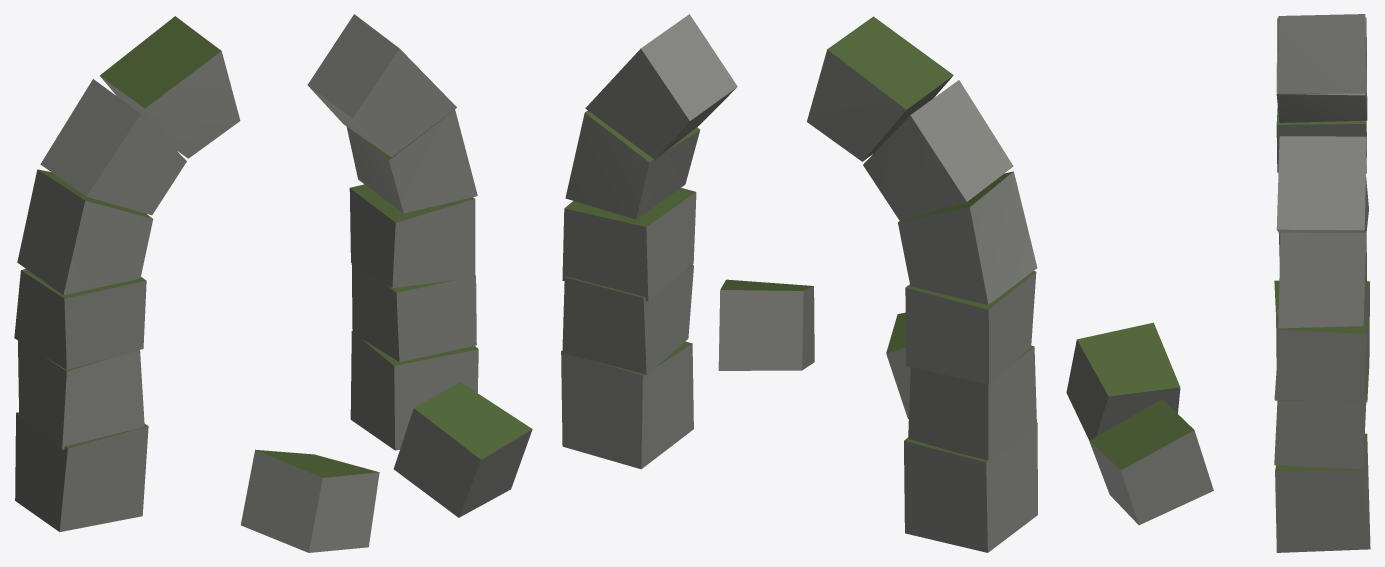
File: ArchBroken.fbx
3 views of the same model, side by side, from view 1: azimuth 30°, elevation 25°; view 2: azimuth 150°, elevation 25°; view 3: azimuth 270°, elevation 25° (orthographic). The views are drawn at different scales.
Parts seen in each view (by area): view 1: ArchBroken; view 2: ArchBroken; view 3: ArchBroken.
Boxes of the visible parts, x1=… form: ArchBroken: x1=14, y1=14, x2=532, y2=552; ArchBroken: x1=561, y1=14, x2=1037, y2=552; ArchBroken: x1=1066, y1=14, x2=1370, y2=552.
Size of the model in its own units: 3.16 by 3.24 by 2.11.
